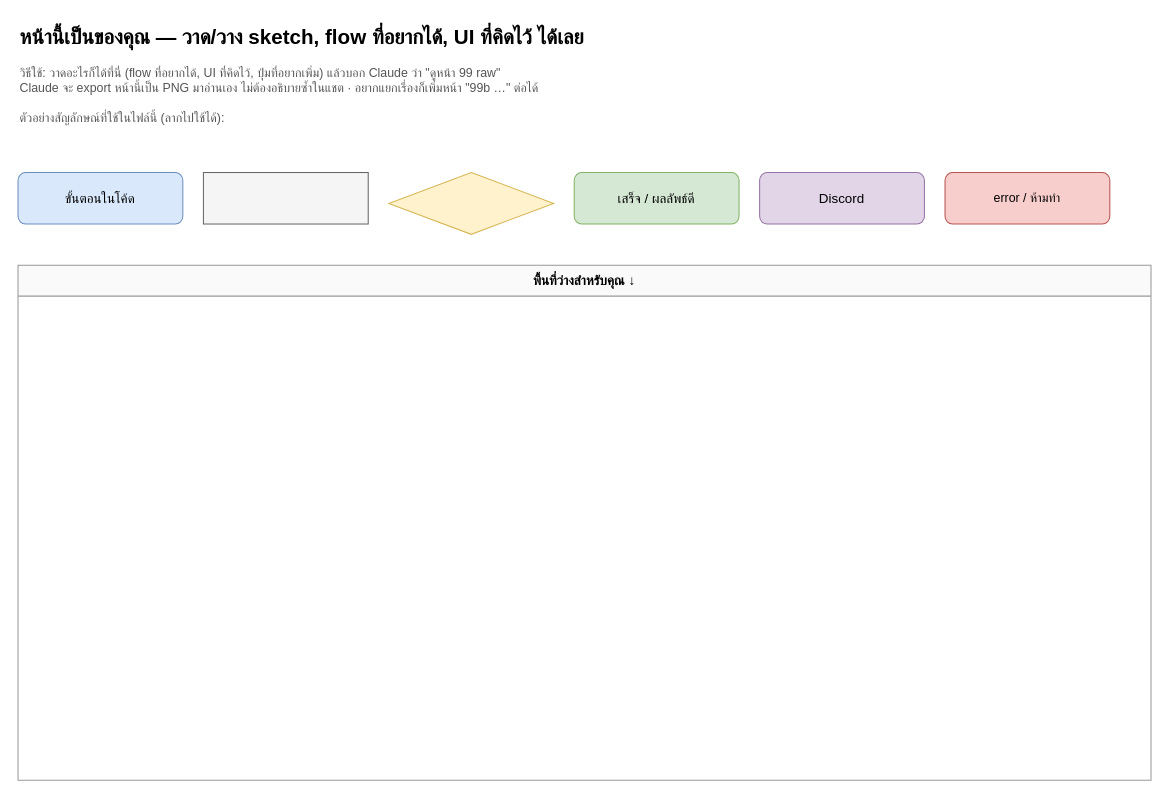
Some shapes in this 1169 by 798 pixel diagram are drawn without their labels. Each missing label, with the centre of its shape:
"ตัดสินใจ" goes at point 471,202.
"ระบบภายนอก" goes at point 285,197.
